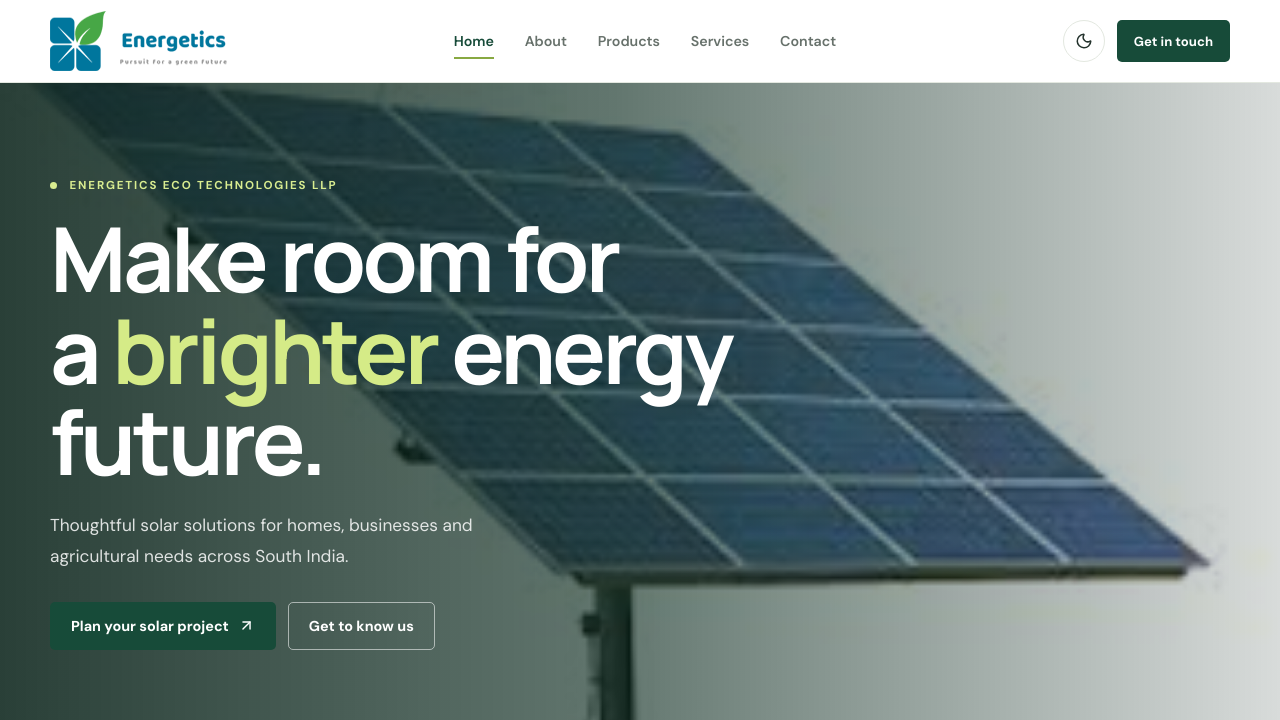
site navigation and theme › switches themes and persists the selected preference
The width and height of the screenshot is (1280, 720).
Click the button named "switch to dark mode" at (1084, 41), box [1063,20,1105,62]
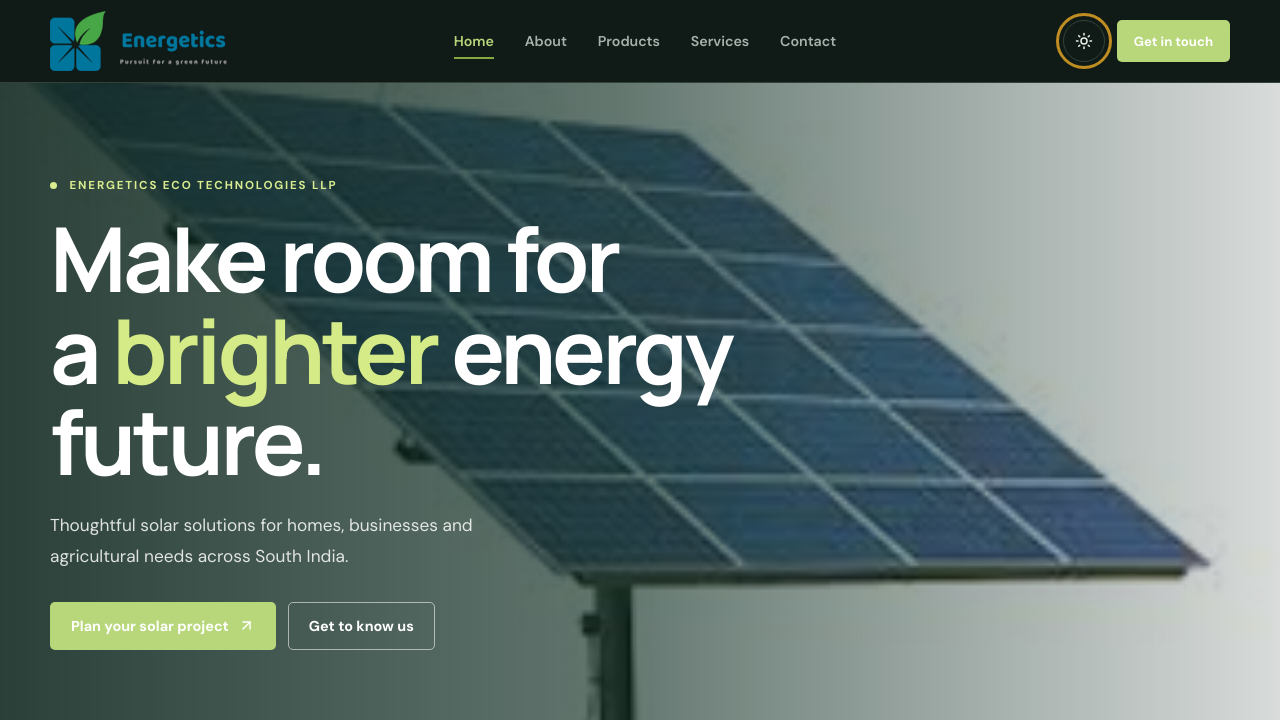
Result: the button named "switch to light mode" is shown at [1063,20,1105,62]
